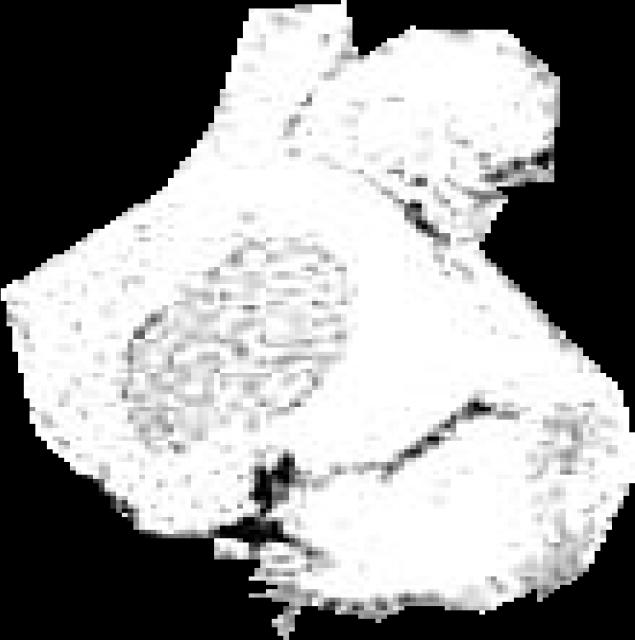tumor_less_chance: (1, 0, 635, 640)
